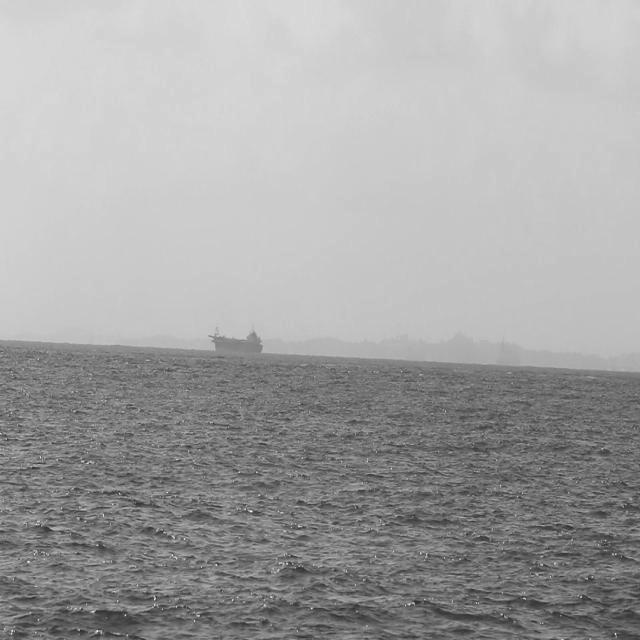ship: (206, 328, 262, 365)
